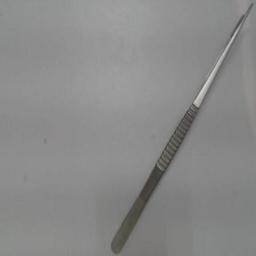DeBakey Dissector: (103, 2, 255, 252)
